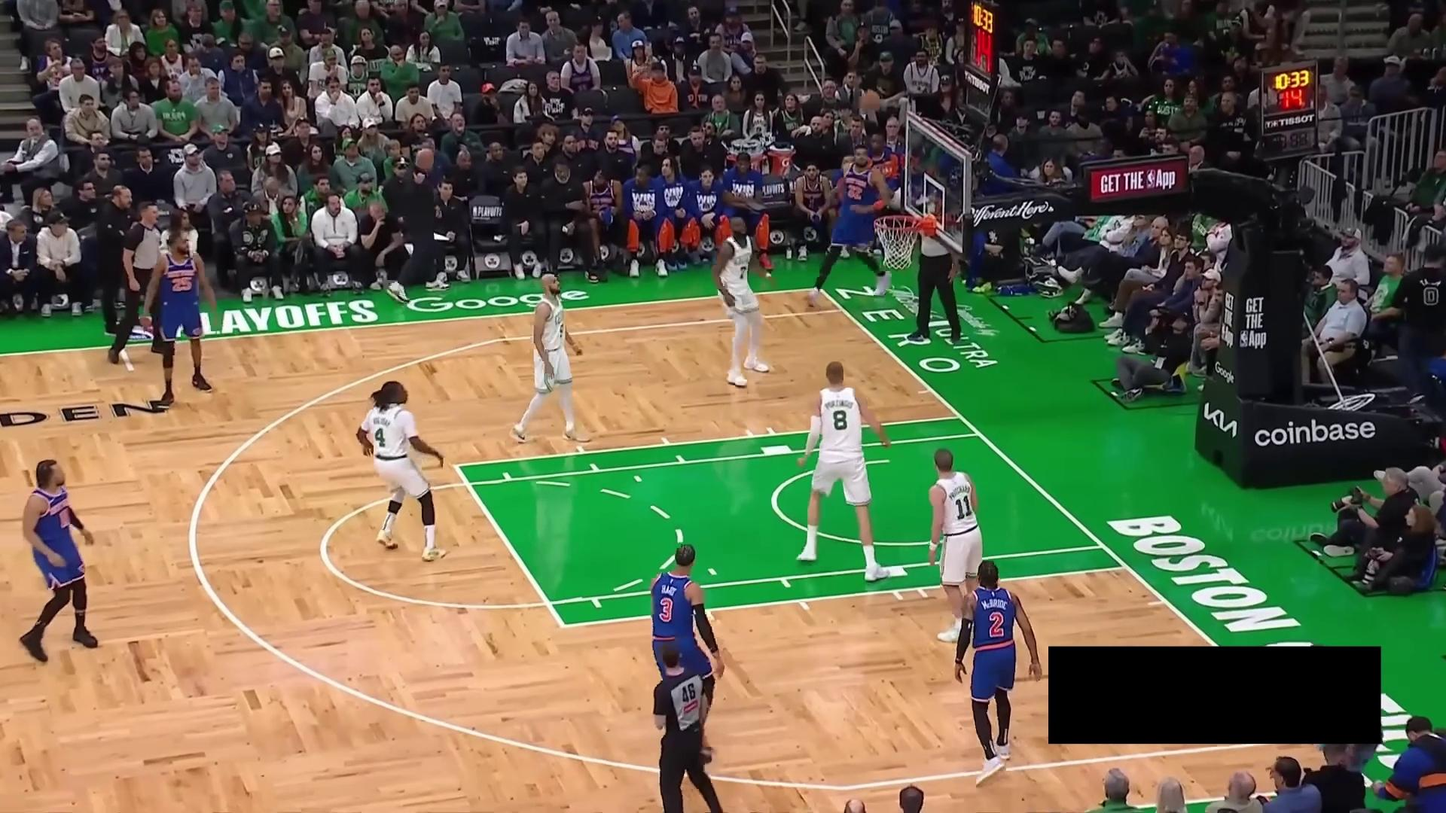ball: (857, 89, 882, 114)
number: (988, 612, 1006, 635), (658, 598, 674, 623), (953, 496, 969, 520), (831, 409, 847, 432), (173, 276, 192, 291), (375, 426, 387, 448), (848, 183, 863, 200), (60, 508, 71, 528), (739, 264, 748, 280)
player: (795, 361, 896, 583), (954, 559, 1042, 781), (354, 380, 451, 563), (648, 543, 723, 766), (20, 458, 99, 664), (138, 230, 222, 410), (804, 145, 893, 309), (512, 271, 590, 445), (928, 447, 984, 644), (716, 207, 775, 389)
referee: (651, 644, 722, 813), (108, 202, 176, 367), (908, 218, 964, 342)
rim: (870, 213, 920, 232)
